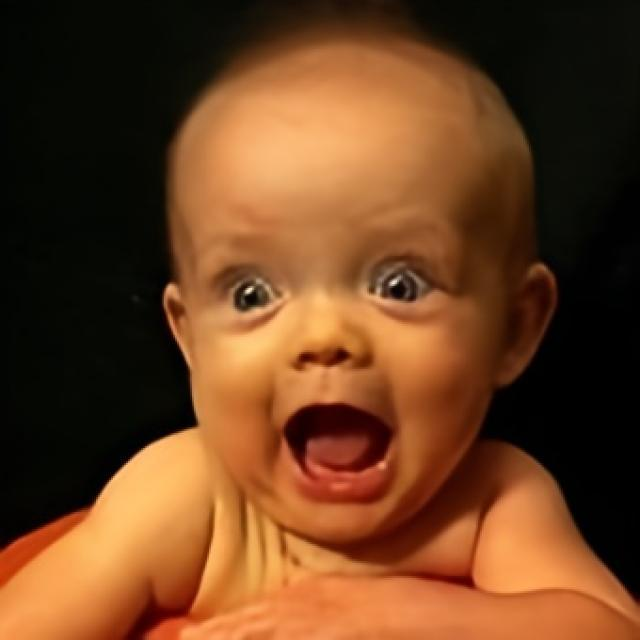Fear: (163, 31, 534, 550)
